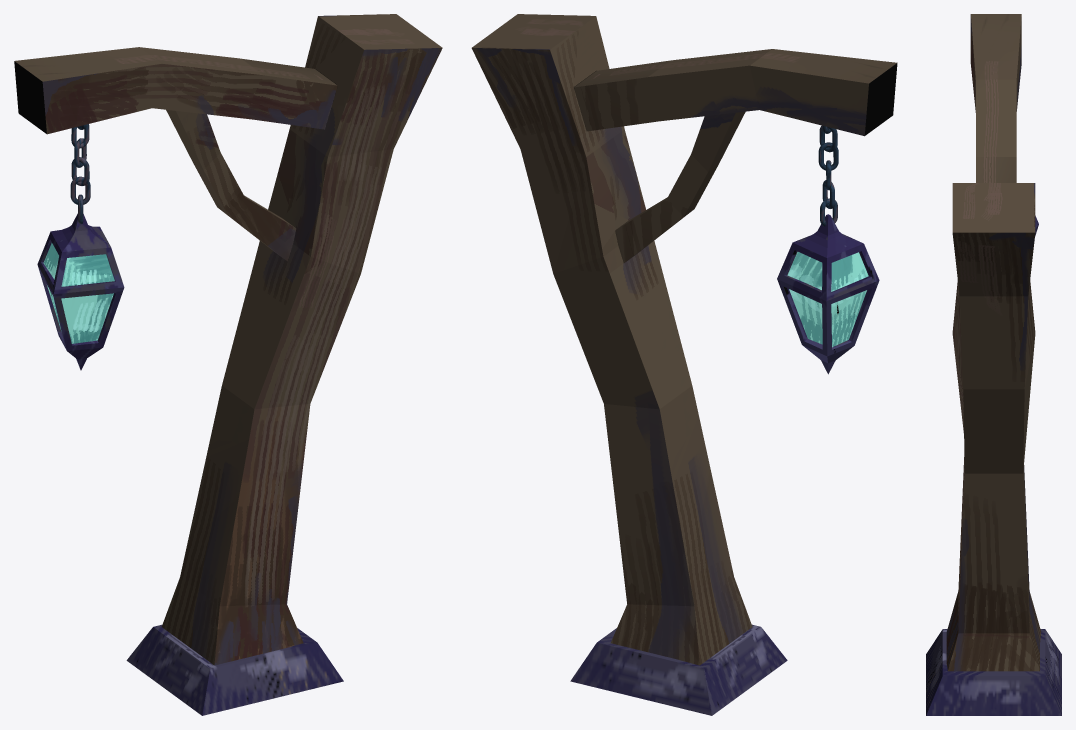
Rendered from LAMP.glb.
3 views of the same model, side by side, from view 1: azimuth 30°, elevation 25°; view 2: azimuth 150°, elevation 25°; view 3: azimuth 270°, elevation 25° (orthographic). The views are drawn at different scales.
Visible parts, largest first — view 1: Torus.006; view 2: Torus.006; view 3: Torus.006.
Part boxes in pixels (x1,y1,x2,y2): Torus.006: [14, 14, 442, 715]; Torus.006: [471, 14, 897, 715]; Torus.006: [926, 14, 1061, 715].
Size of the model in its own units: 5.79 by 9.21 by 1.95.
Materials: 3 (3 with a texture image).
